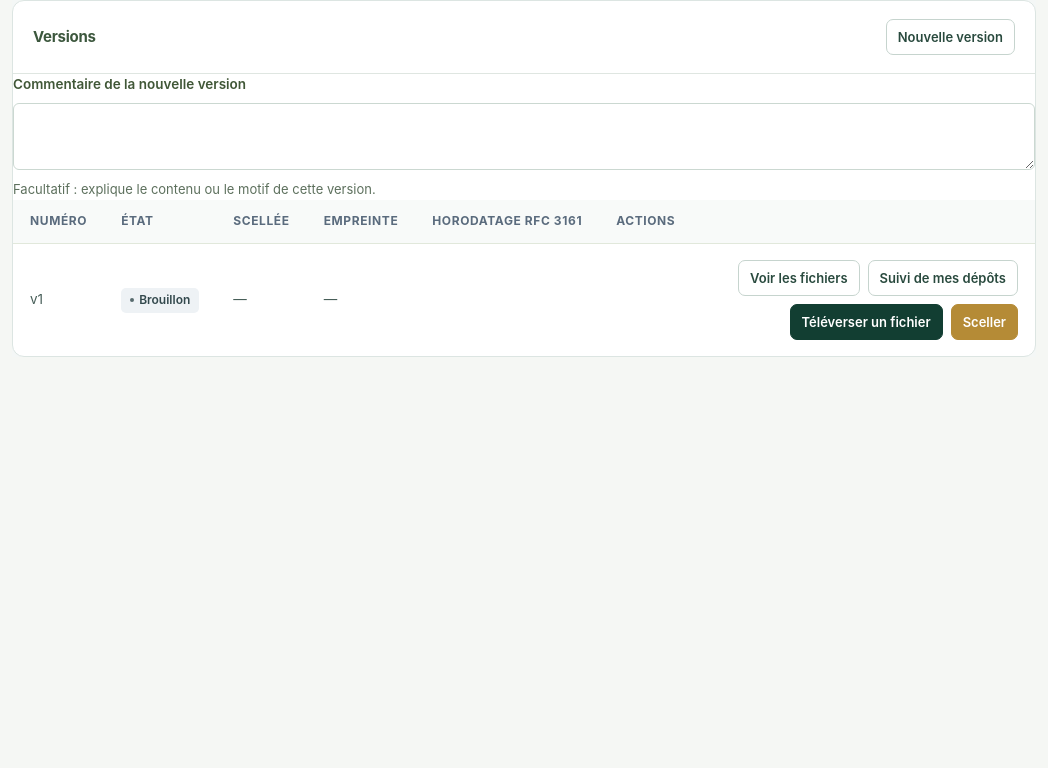
sans maître validé, le refus dit comment en déposer un
This screenshot has width=1048, height=768.
Click the button "Sceller". click: (984, 322)
box: [951,304,1018,340]
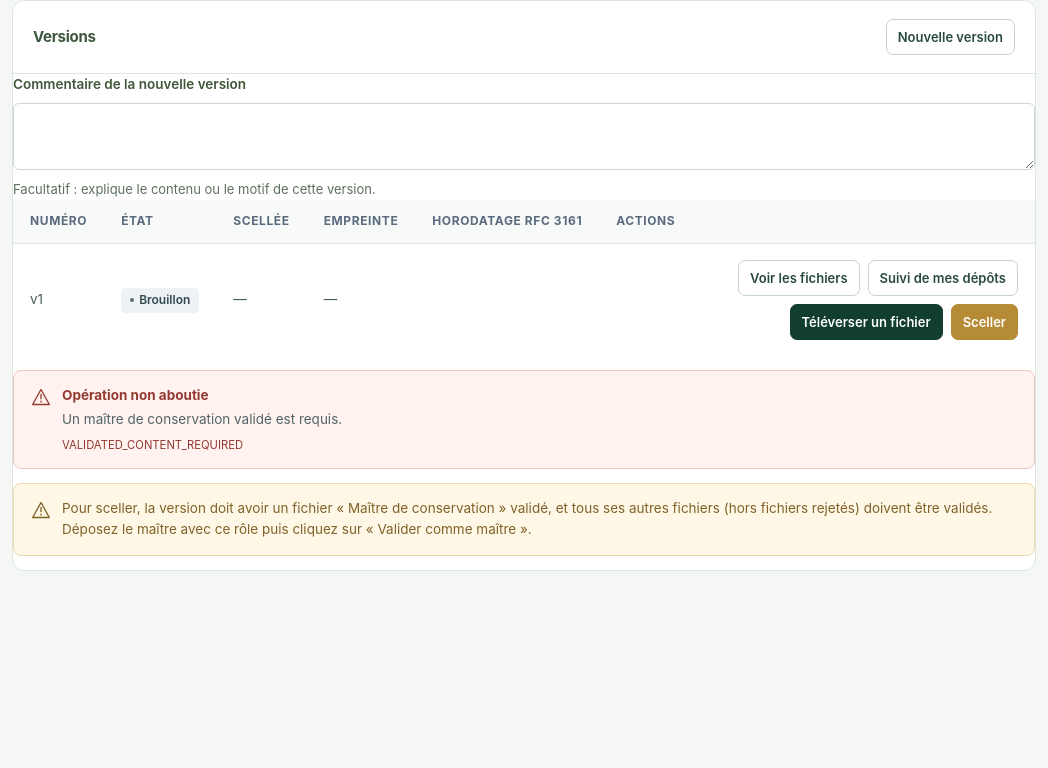
expect the text "fichier « Maître de conservation » validé" is shown: met, box [62,500,992,538]
